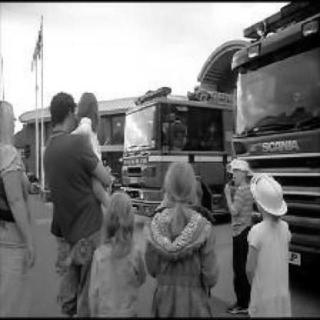other: (120, 146, 228, 180), (228, 158, 284, 214)
